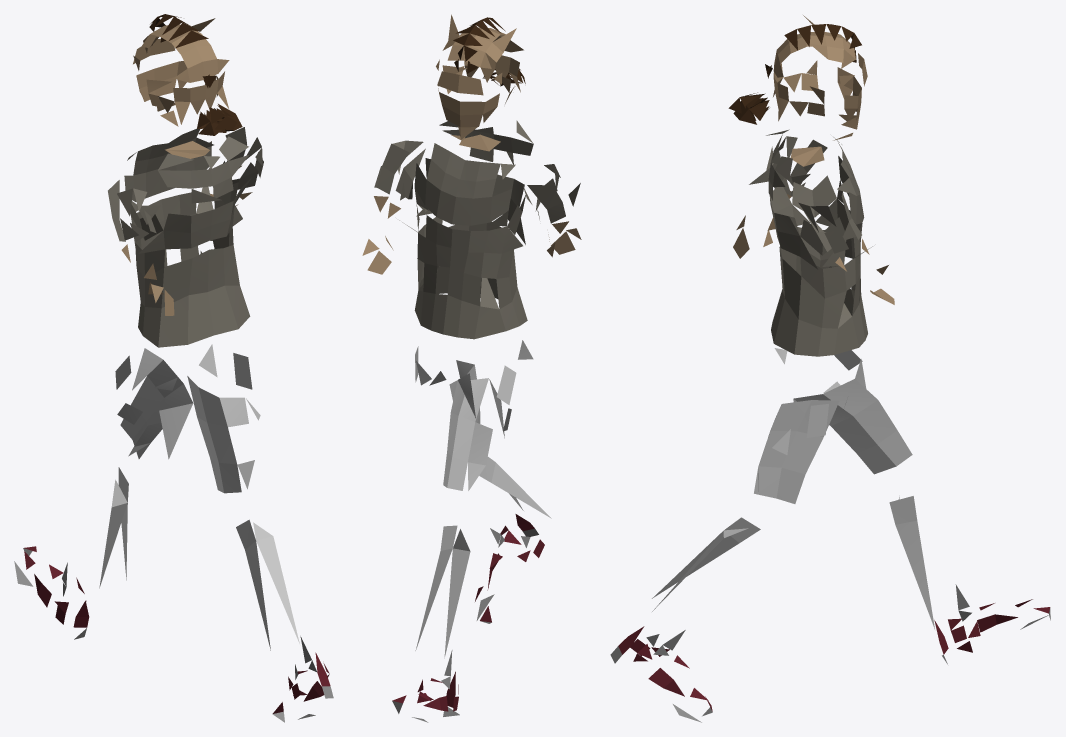
Rendered from personfar_9_w0.fbx.
The picture shows the model from 3 angles, left to right: view 1: azimuth 30°, elevation 25°; view 2: azimuth 150°, elevation 25°; view 3: azimuth 270°, elevation 25°; orthographic projection. The views are drawn at different scales.
Visible parts, largest first — view 1: Casual2_Feet; view 2: Casual2_Feet; view 3: Casual2_Feet.
Boxes of the visible parts, x1,y1,x2,y2 form: Casual2_Feet: [14, 14, 333, 722]; Casual2_Feet: [362, 14, 581, 722]; Casual2_Feet: [610, 15, 1050, 722].
Bounding box in the file's own units: 0.2687 × 0.9957 × 0.5947.
